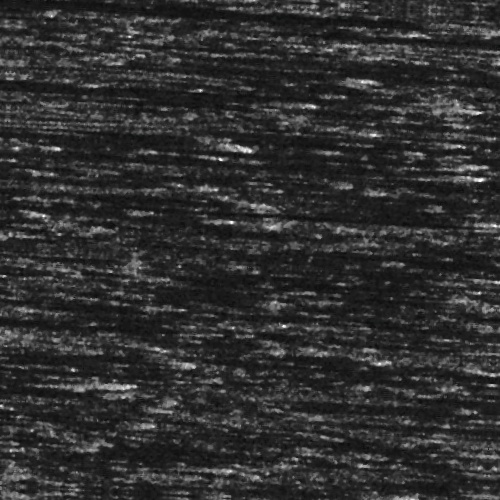object: (356, 481, 481, 492), (393, 5, 498, 18), (51, 386, 156, 397), (360, 89, 465, 98), (425, 433, 500, 444), (154, 184, 227, 193), (333, 43, 396, 52), (180, 464, 233, 473), (143, 360, 206, 367), (236, 96, 319, 101), (458, 205, 500, 214), (459, 333, 500, 342), (316, 69, 379, 74), (436, 147, 499, 152), (457, 160, 488, 165), (160, 0, 275, 1), (452, 393, 483, 396), (491, 27, 500, 34)
shadow: (192, 5, 445, 18), (75, 89, 413, 98), (250, 205, 495, 214), (269, 63, 500, 72), (319, 433, 478, 444), (262, 481, 419, 492), (16, 184, 190, 193), (194, 43, 364, 52), (17, 96, 277, 101), (4, 360, 174, 367), (16, 386, 103, 397), (366, 27, 500, 34), (178, 69, 348, 74), (123, 464, 206, 473), (426, 333, 500, 342), (271, 498, 500, 500), (452, 113, 500, 122), (383, 147, 468, 152), (389, 160, 473, 165), (388, 393, 467, 396), (128, 0, 217, 1)
